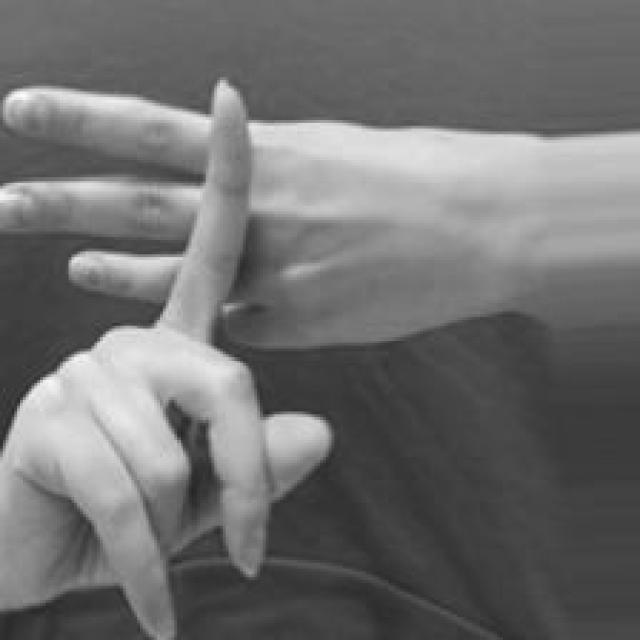E: (0, 64, 455, 640)
